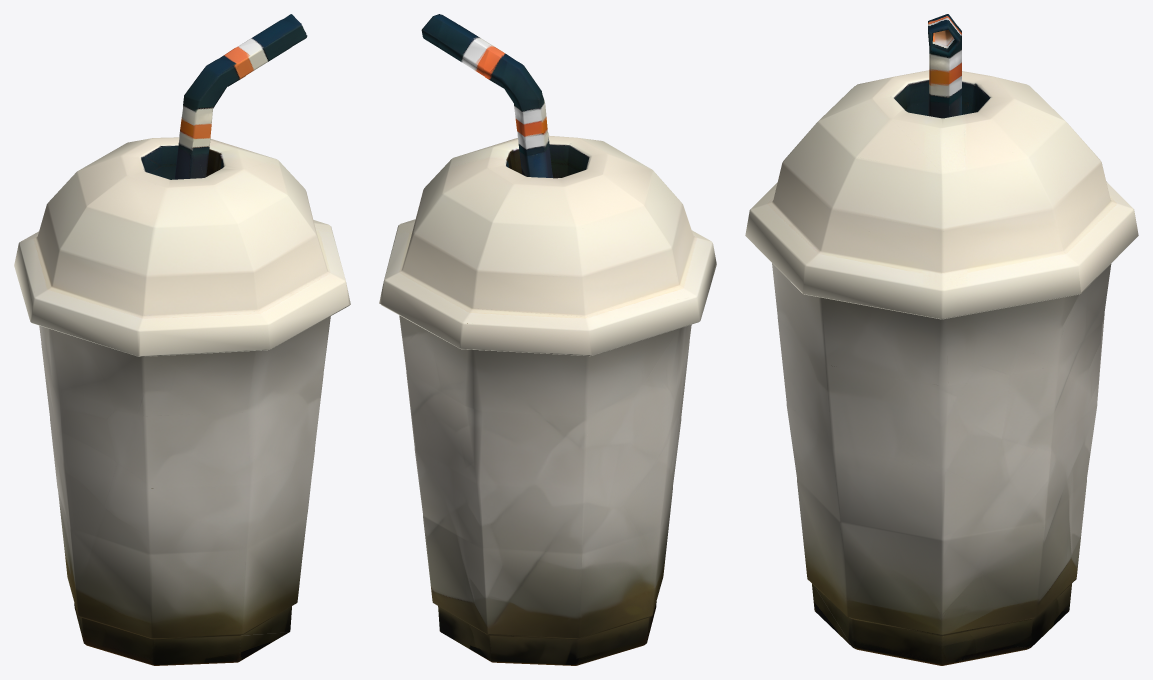
The model's file is trash_small_7.glb.
The picture shows the model from 3 angles, left to right: view 1: azimuth 30°, elevation 25°; view 2: azimuth 150°, elevation 25°; view 3: azimuth 270°, elevation 25°; orthographic projection. The views are drawn at different scales.
Bounding box in the file's own units: 1.05 × 1.9 × 1.05.
1 material, 1 textured.
